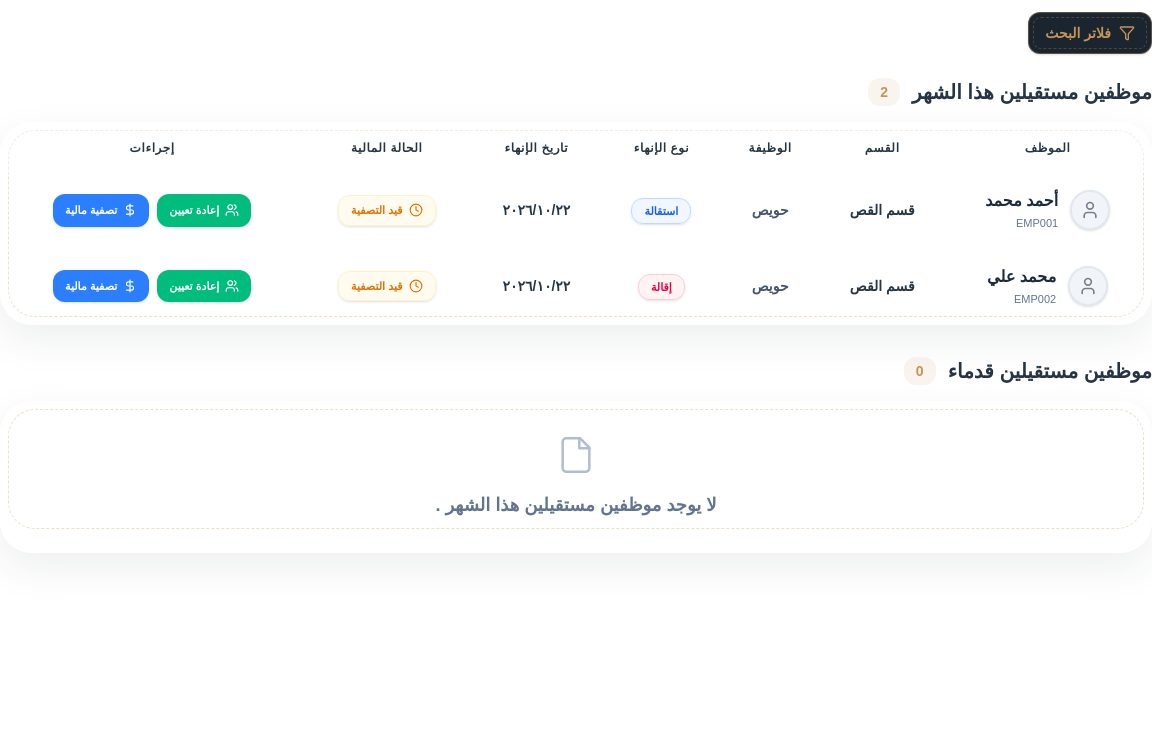
Test: ResignedEmployeesList › displays date range filter inputs in filters panel
Note: Open filters
Click the button "فلاتر البحث" at (1090, 33), box top-left (1028, 12), bottom-right (1152, 54)
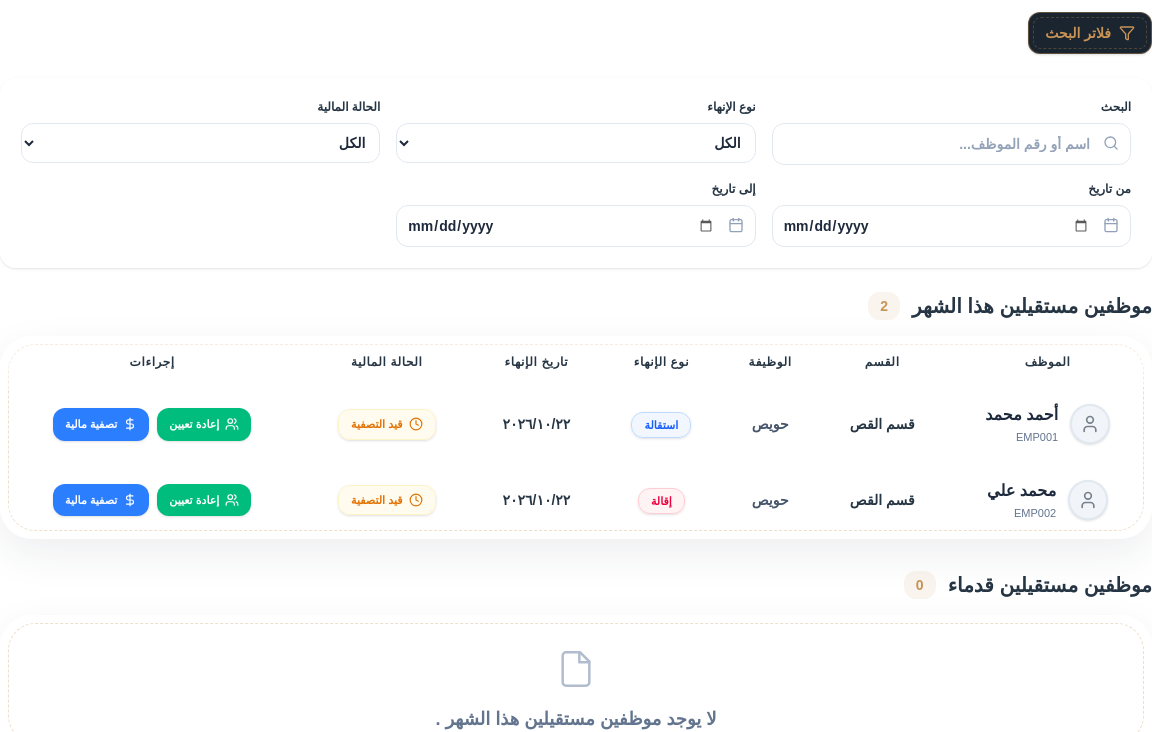
Expected: the date field labelled "من تاريخ" is shown, top-left (772, 205), bottom-right (1131, 247)
Expected: the date field labelled "إلى تاريخ" is shown, top-left (396, 205), bottom-right (756, 247)
